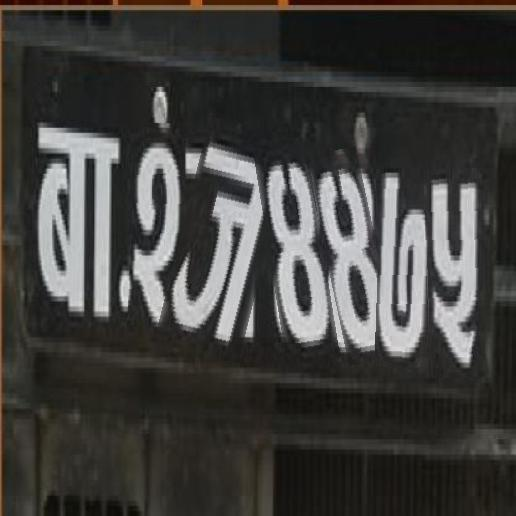2: (129, 123, 184, 342)
4: (316, 147, 389, 365), (262, 143, 332, 364)
5: (425, 159, 484, 378)
7: (376, 154, 431, 368)
ba: (32, 102, 123, 337)
ja: (167, 119, 281, 361)
